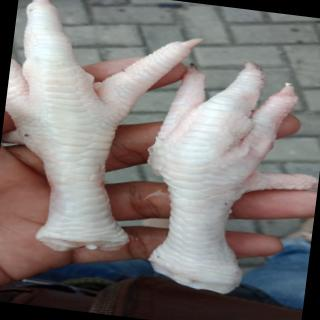Ayam: (1, 1, 212, 269), (130, 48, 320, 305)
